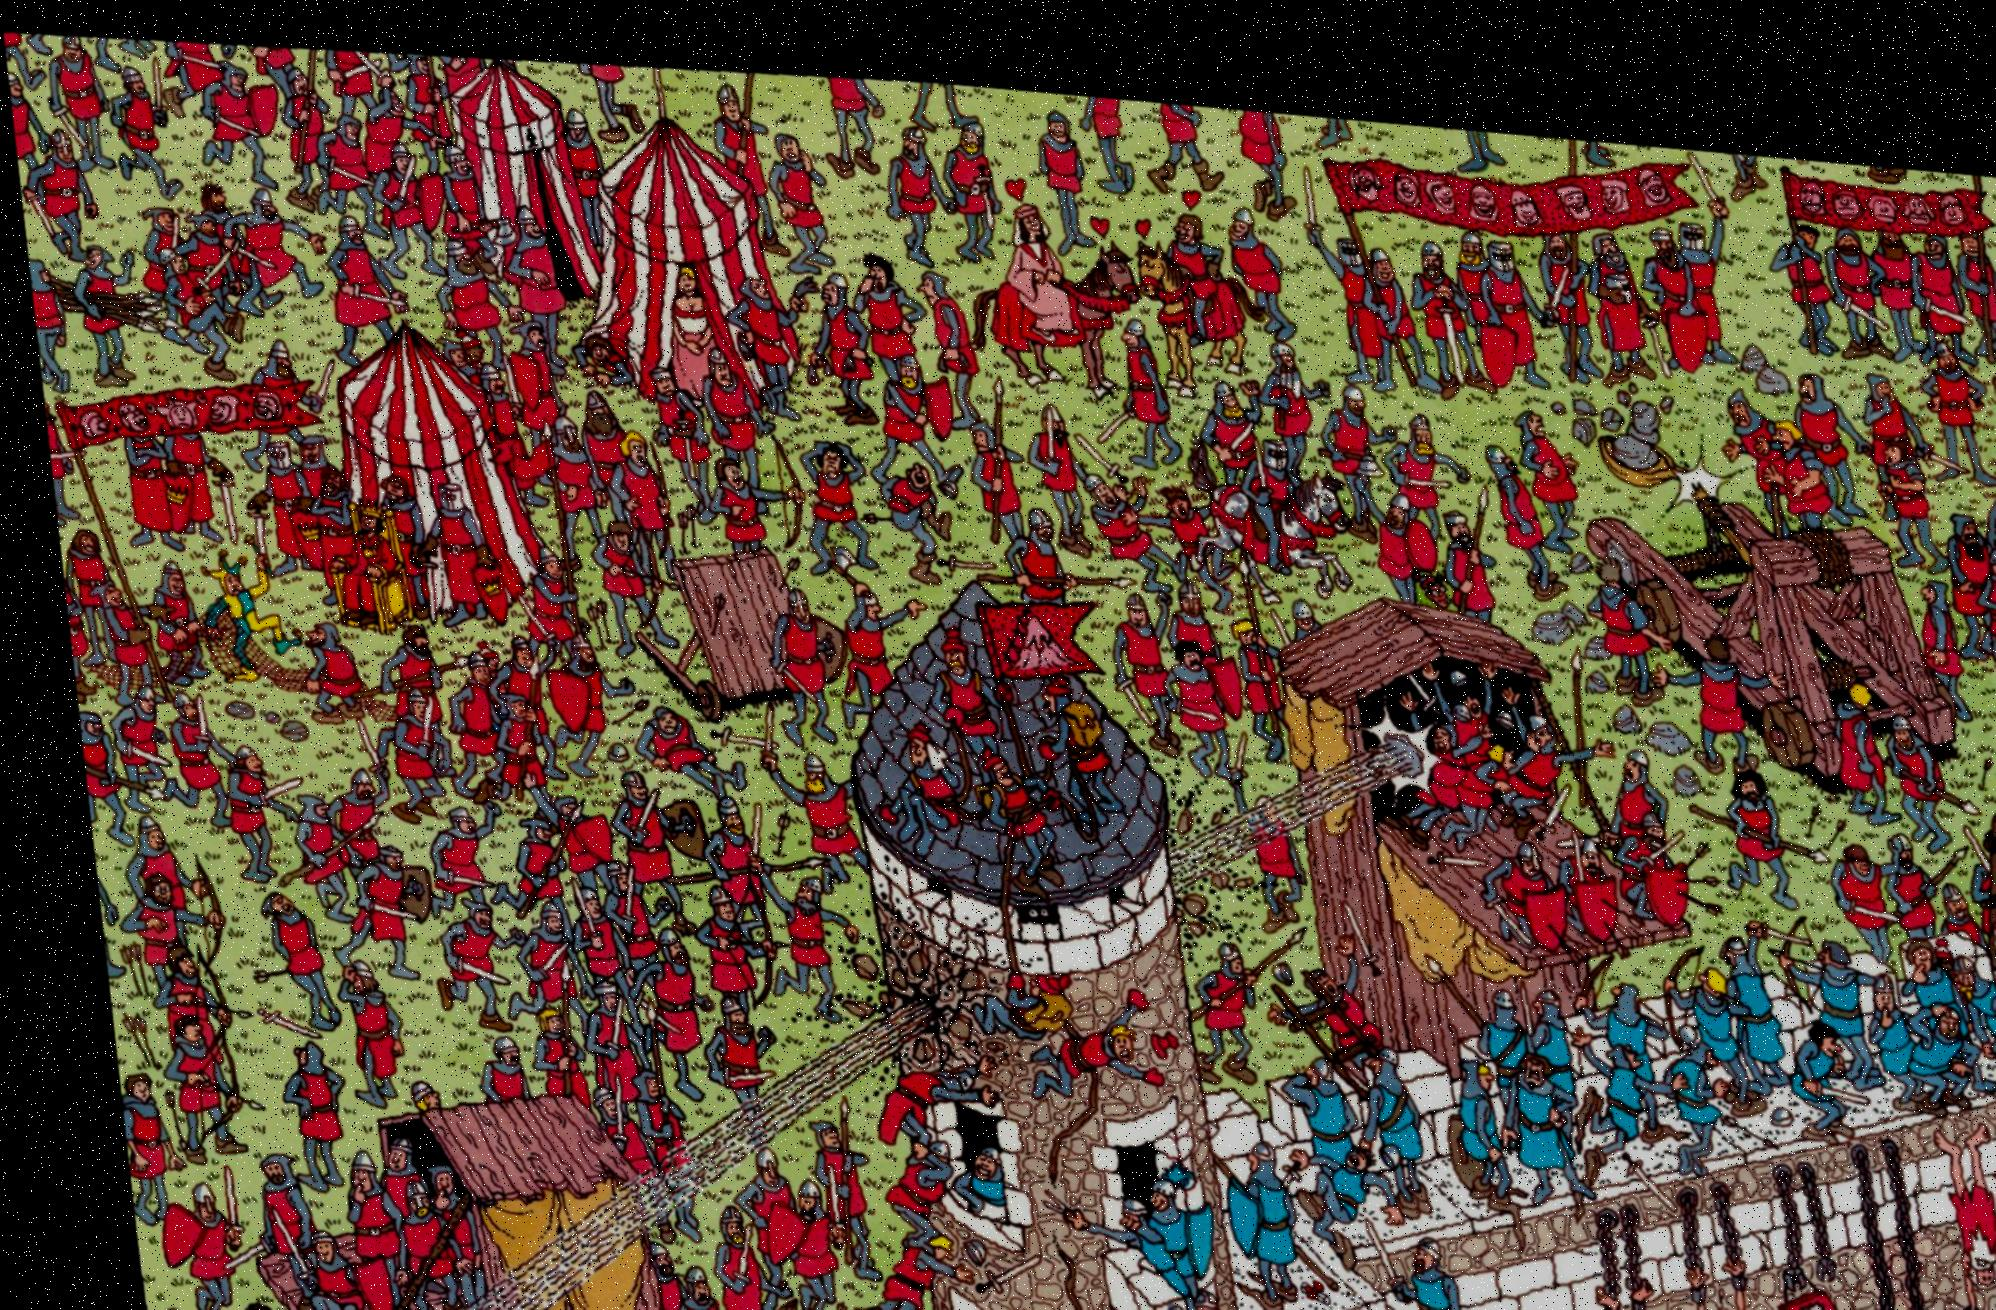waldo: (1399, 541, 1439, 583)
